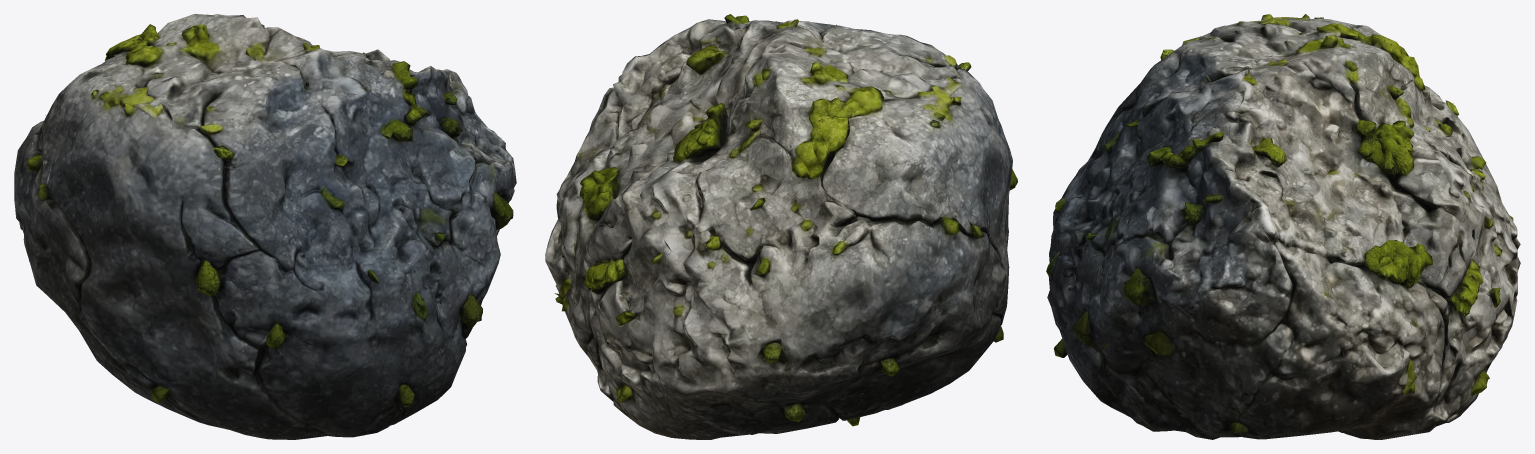
The model's file is boulder-high.glb.
3 views of the same model, side by side, from view 1: azimuth 30°, elevation 25°; view 2: azimuth 150°, elevation 25°; view 3: azimuth 270°, elevation 25° (orthographic). The views are drawn at different scales.
Bounding box in the file's own units: 0.9947 × 0.8044 × 0.998.
Materials: 1 (1 with a texture image).
